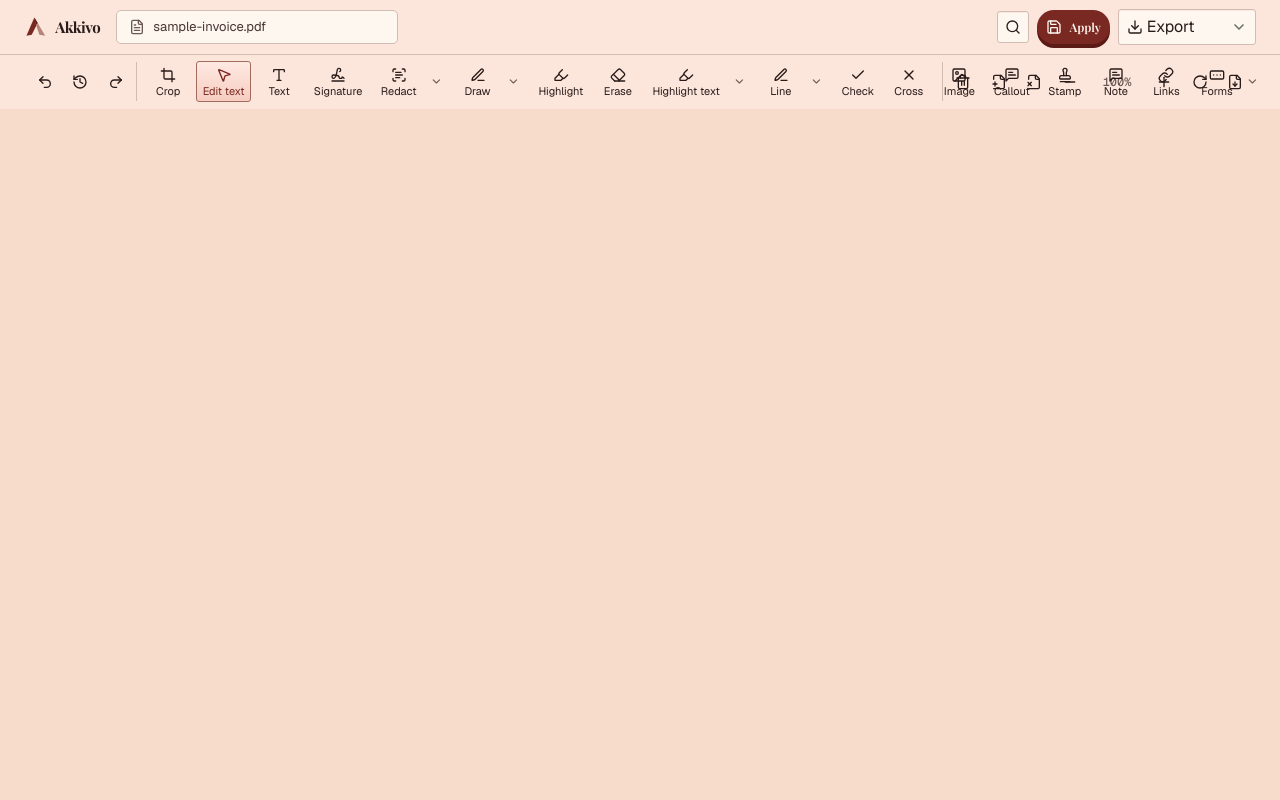
Test: ToolRibbon › history dialog › shows an empty message and a disabled revert when there is no history
Step 1. Click the button titled "Undo history" → (80, 82), box x1=65 y1=62 x2=95 y2=101
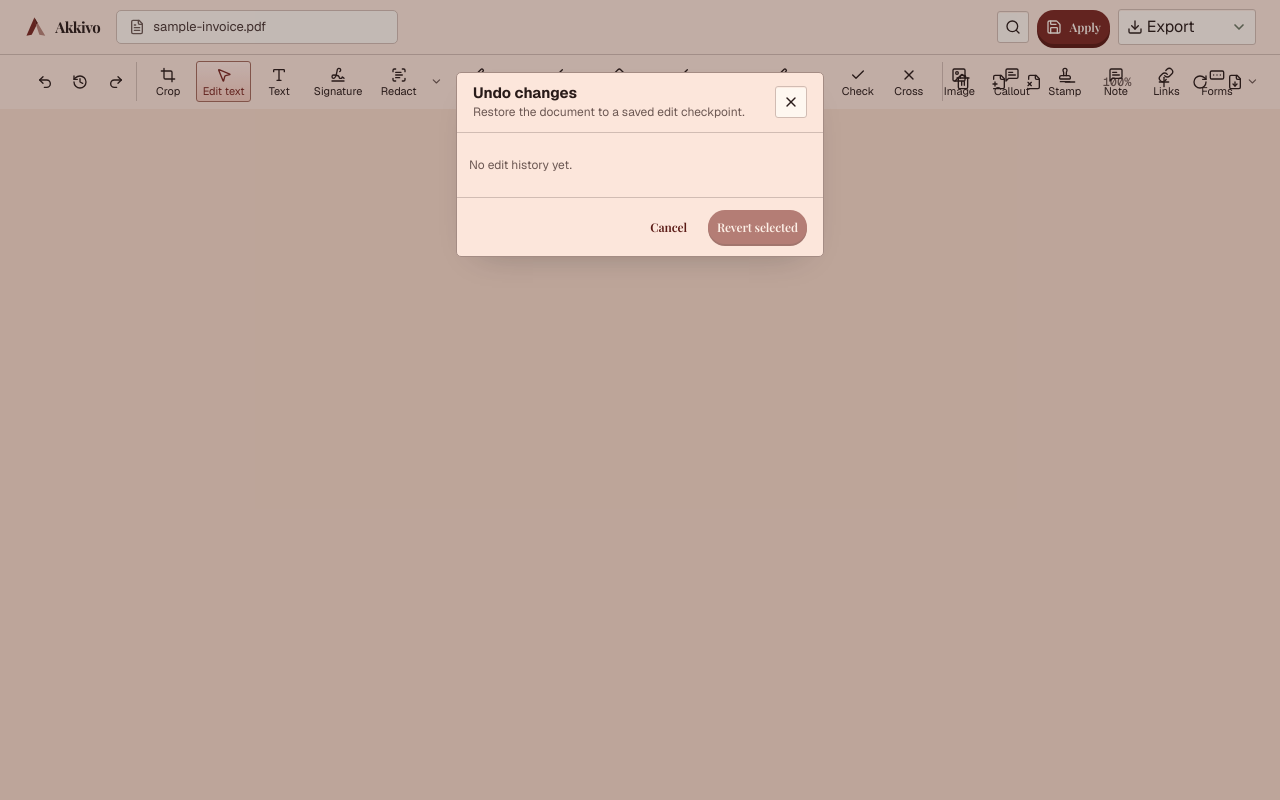
Check: the text "No edit history yet." is shown, box x1=469 y1=157 x2=572 y2=173
Check: the button "Revert selected" is disabled, box x1=708 y1=210 x2=807 y2=244
